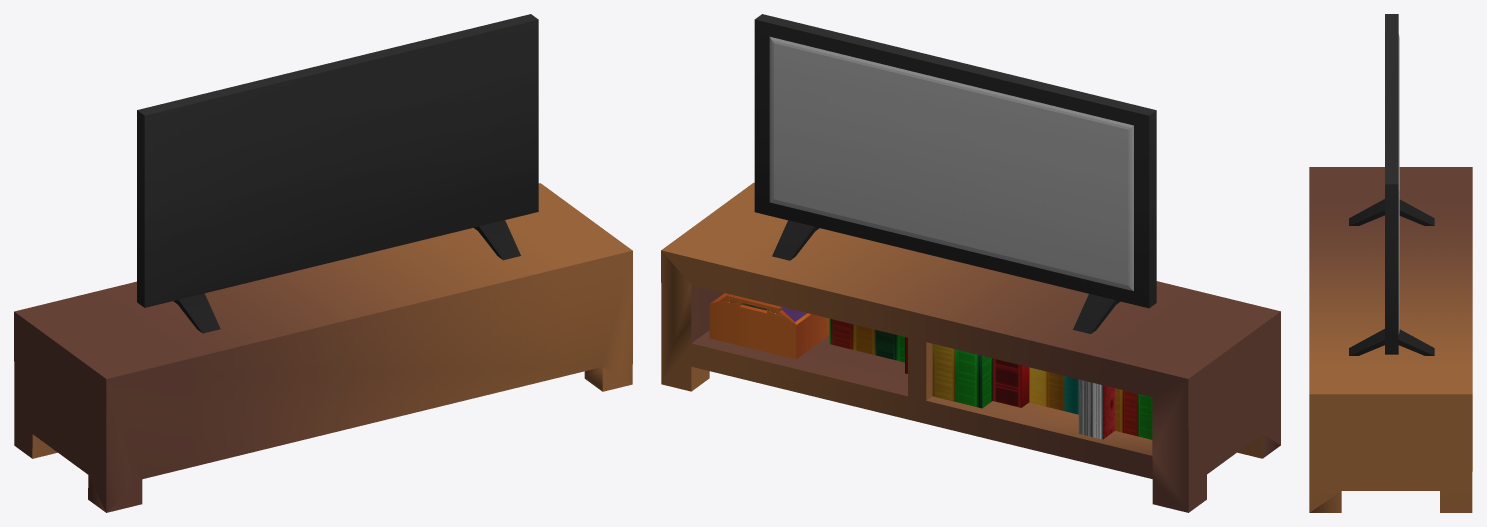
3 renders of one model, left to right at view 1: azimuth 30°, elevation 25°; view 2: azimuth 150°, elevation 25°; view 3: azimuth 270°, elevation 25°, orthographic. The views are drawn at different scales.
Size of the model in its own units: 201 by 126 by 60.91.
Materials: 1 (1 with a texture image).
